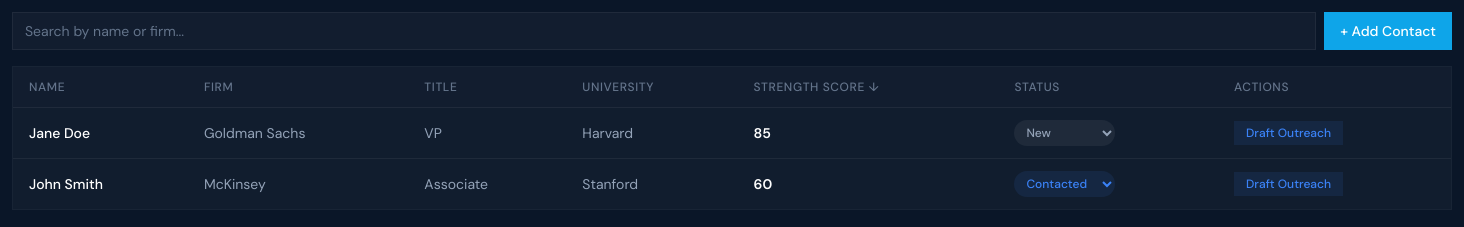
ContactsTable › filters contacts by name search
The image size is (1464, 227).
Expected: the link "Jane Doe" is shown, [29,123,90,143]
Type "jane" into the field with placeholder "Search by name or firm..." at [664, 31], box [12,12,1316,50]
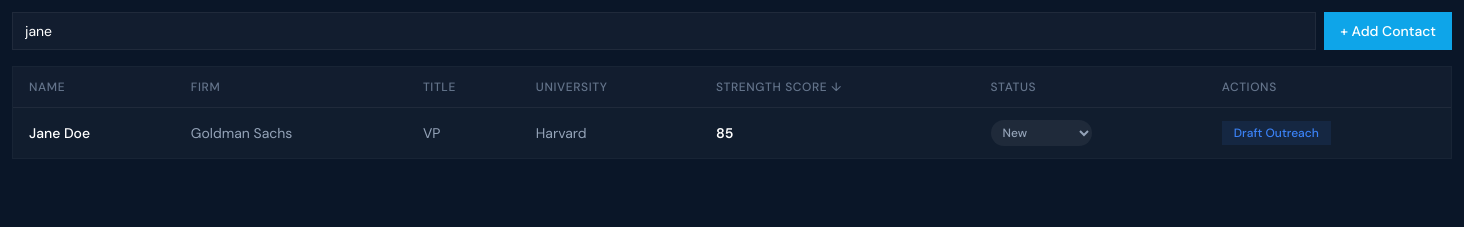
Expected: the link "Jane Doe" is shown, [29,123,90,143]
Now the link "John Smith" is gone
